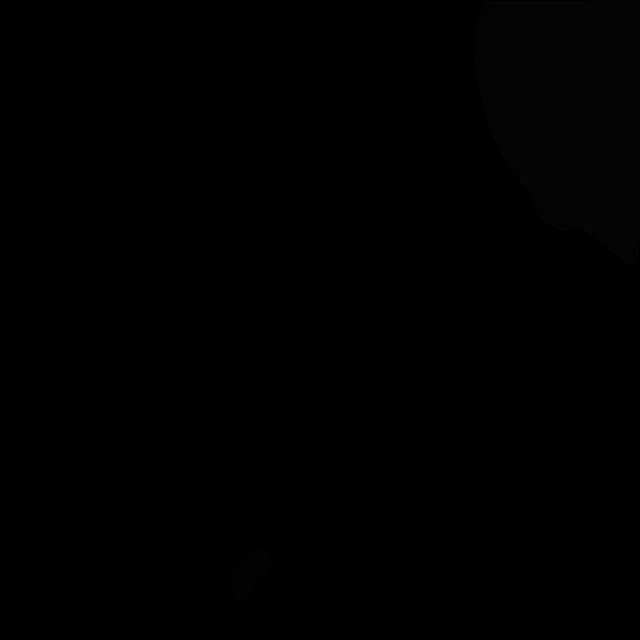cardboard: (229, 545, 272, 604)
soft_plastic: (474, 0, 640, 267)
